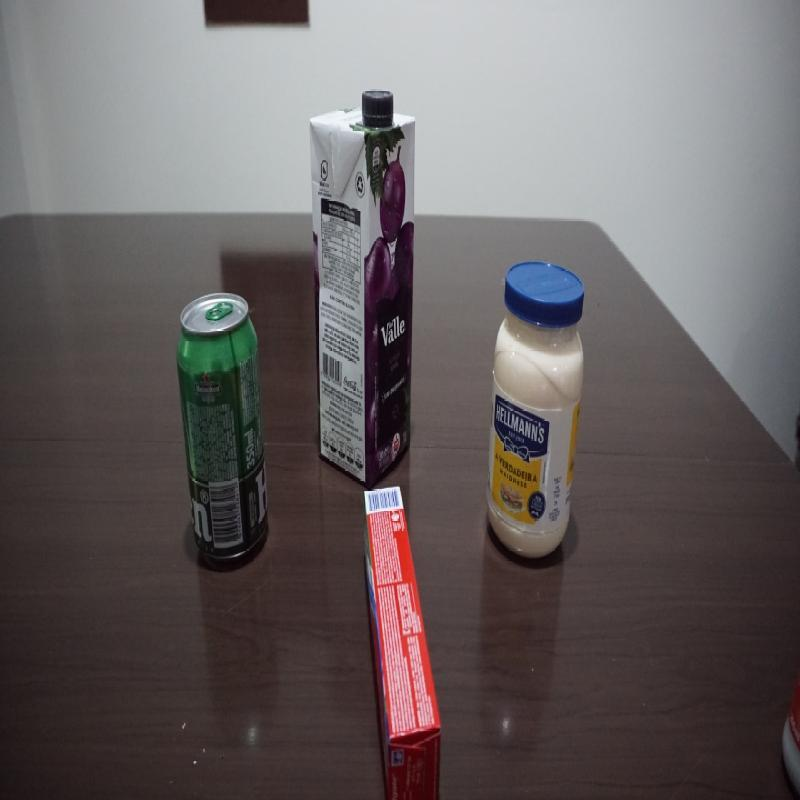Beer can: (178, 290, 269, 564)
Mayonnaise: (483, 261, 586, 563)
Toothpaste: (360, 487, 446, 796)
